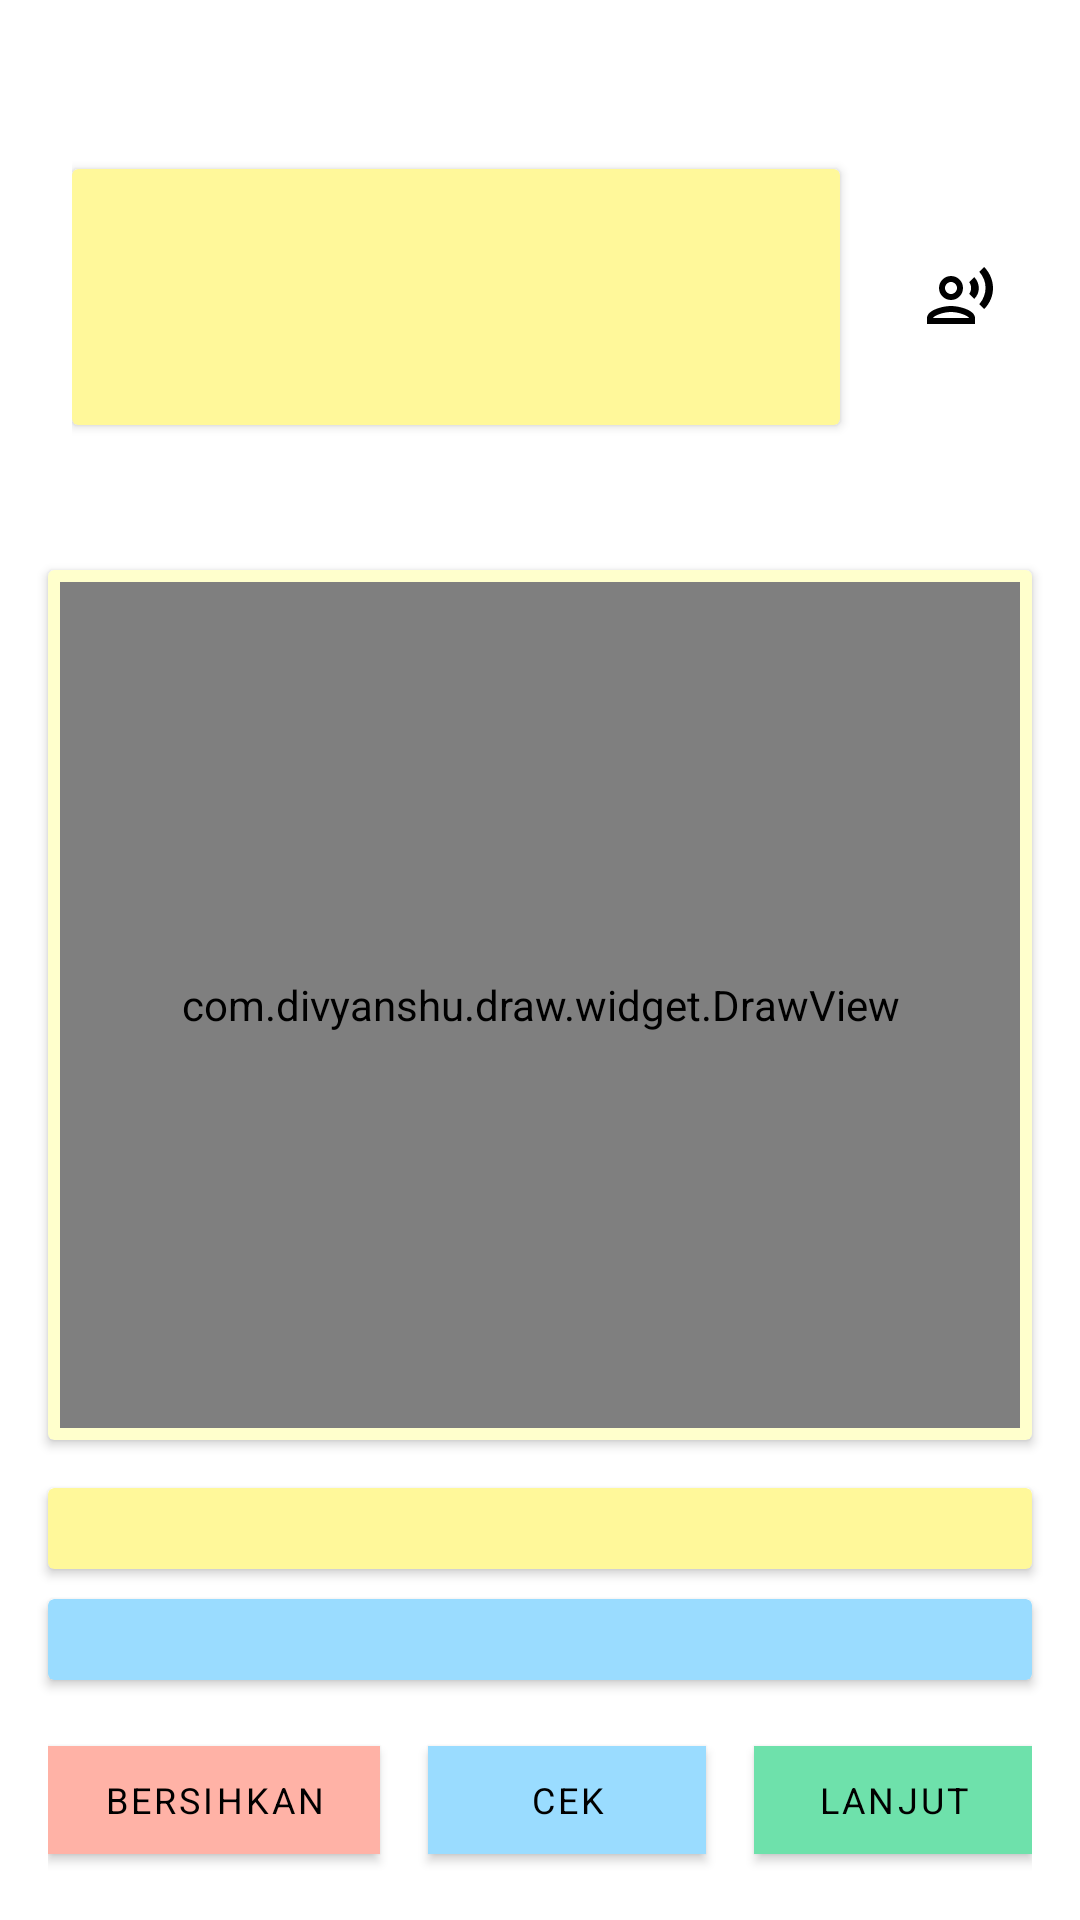

Locate icon controls on the screen. Image size 1080x1920, boxes as (x1=x1, y1=y1, x2=x2, y2=y2).
Speak Button: (x1=927, y1=267, x2=993, y2=324)
